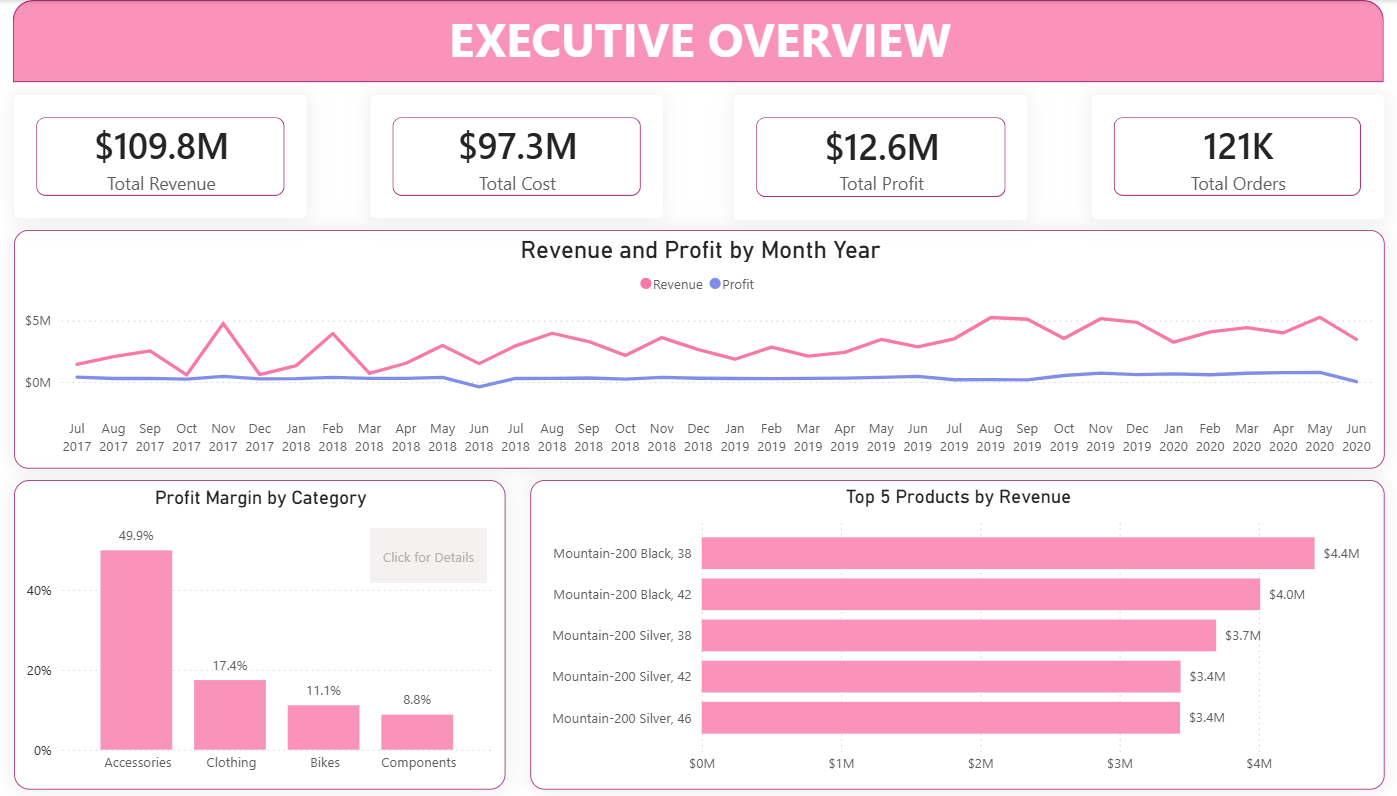

The dashboard page shown, as its layout file describes it:
{"tool":"powerbi","page":{"name":"Executive Overview","canvas":[1280,720],"ordinal":0},"visuals":[{"type":"shape","box":[22,0,1236.4,74.1],"z":0},{"type":"lineChart","title":"Revenue and Profit  by Month Year","fields":{"Category":["Date.Month Year"],"Y":["*Measure table.M_Total Revenue","*Measure table.M_Total profit"]},"box":[22.1,207.2,1236.1,215.5],"z":1000},{"type":"barChart","title":"Top 5 Products by Revenue","fields":{"Category":["Product.Product"],"Y":["*Measure table.M_Total Sales"]},"box":[487.5,432.3,770.7,279],"z":2000},{"type":"cardVisual","fields":{"Data":["Sum(Sales.Sales Amount)"]},"box":[22.1,86,264.1,111.5],"z":3000},{"type":"cardVisual","fields":{"Data":["*Measure table.M_Total cost"]},"box":[344,86,264.1,111.5],"z":4000},{"type":"textbox","box":[44,0,1194.7,74.6],"z":5000},{"type":"cardVisual","fields":{"Data":["*Measure table.M_Total Order"]},"box":[994.4,85.6,263.8,111.9],"z":6000},{"type":"cardVisual","fields":{"Data":["*Measure table.M_Total profit"]},"box":[671.7,85.6,265,112.5],"z":7000},{"type":"clusteredColumnChart","title":"Profit Margin by Category","fields":{"Category":["Product.Category"],"Y":["*Measure table.M_Profit margin"]},"box":[22.1,432.3,443.3,279],"z":8000},{"type":"actionButton","box":[343.9,476.5,105.2,48.9],"z":10000}]}

Visuals, with their boxes in screenshot pixels (x1, y1, x2, y2), scaled from the page's 1280x720 canvas onto the 1397x796 screenshot:
shape: 24:0:1373:82
"Revenue and Profit  by Month Year" lineChart: 24:229:1373:467
"Top 5 Products by Revenue" barChart: 532:478:1373:786
cardVisual - Sum(Sales.Sales Amount): 24:95:312:218
cardVisual - *Measure table.M_Total cost: 375:95:664:218
textbox: 48:0:1352:82
cardVisual - *Measure table.M_Total Order: 1085:95:1373:218
cardVisual - *Measure table.M_Total profit: 733:95:1022:219
"Profit Margin by Category" clusteredColumnChart: 24:478:508:786
actionButton: 375:527:490:581
